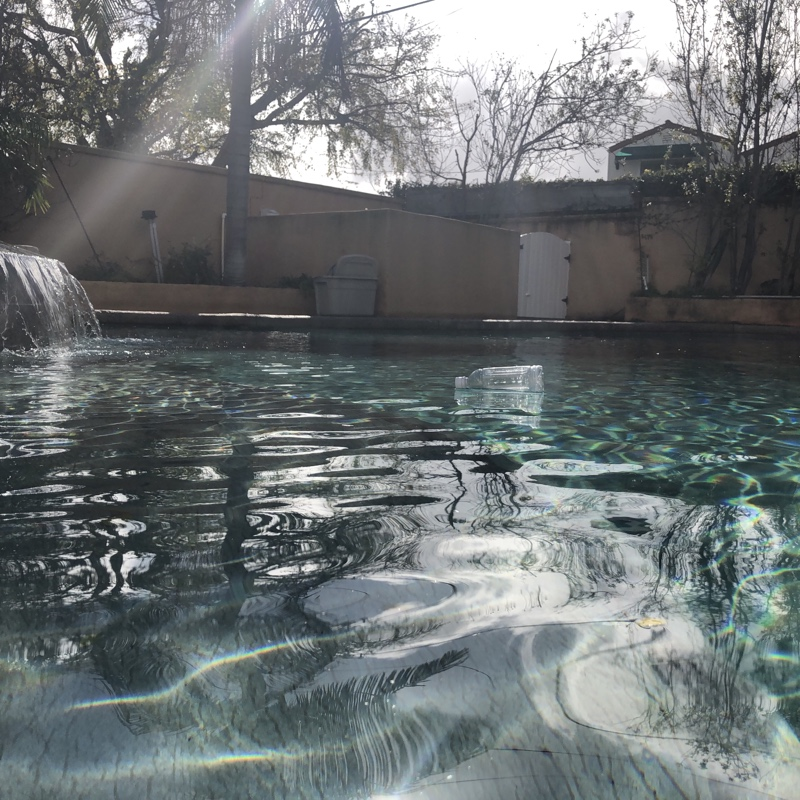Plastic Bottle: (449, 365, 544, 395)
